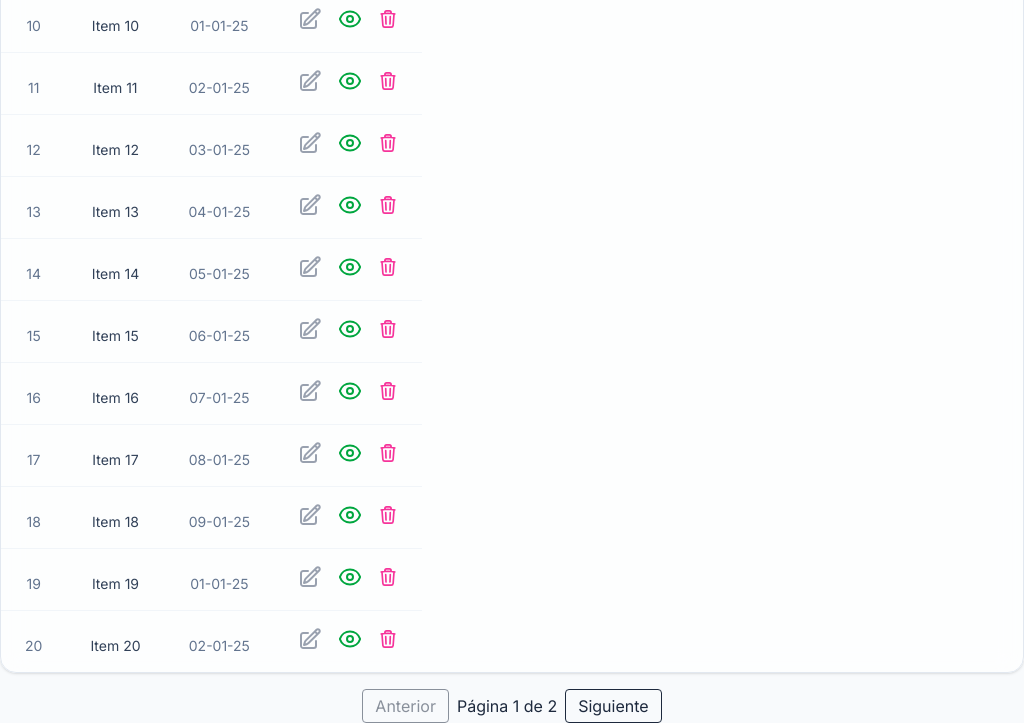
Test case: BaseTable.vue › navigates pages with Siguiente and Anterior buttons
(page scrolled)
Click Siguiente
Click the button "Siguiente" at (613, 706), box [565,689,662,722]
(page scrolled)
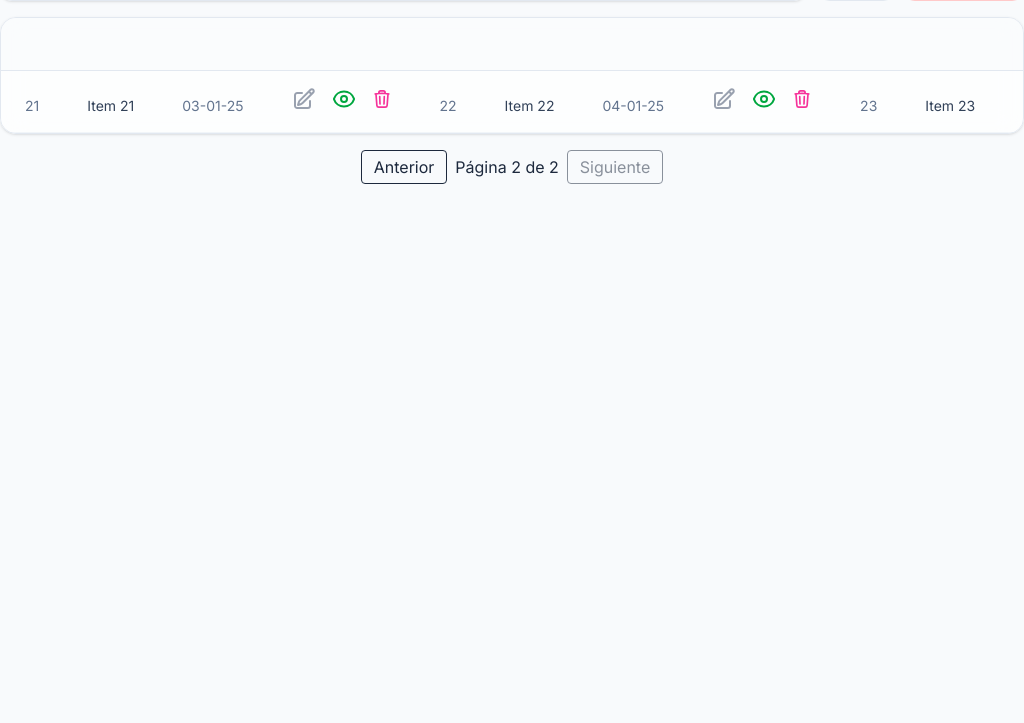
Check: the text "Página 2 de 2" is shown, box [455,155,559,179]
Click Anterior
Click the button "Anterior" at (404, 167), box [361,150,447,184]
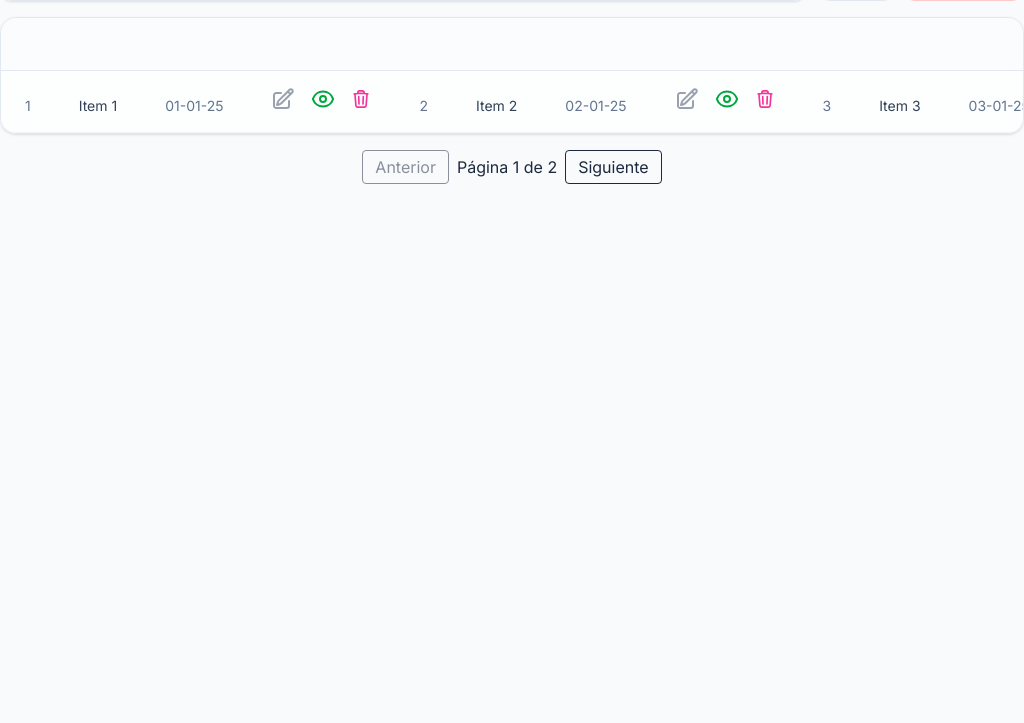
Check: the text "Página 1 de 2" is shown, box [457,155,557,179]
